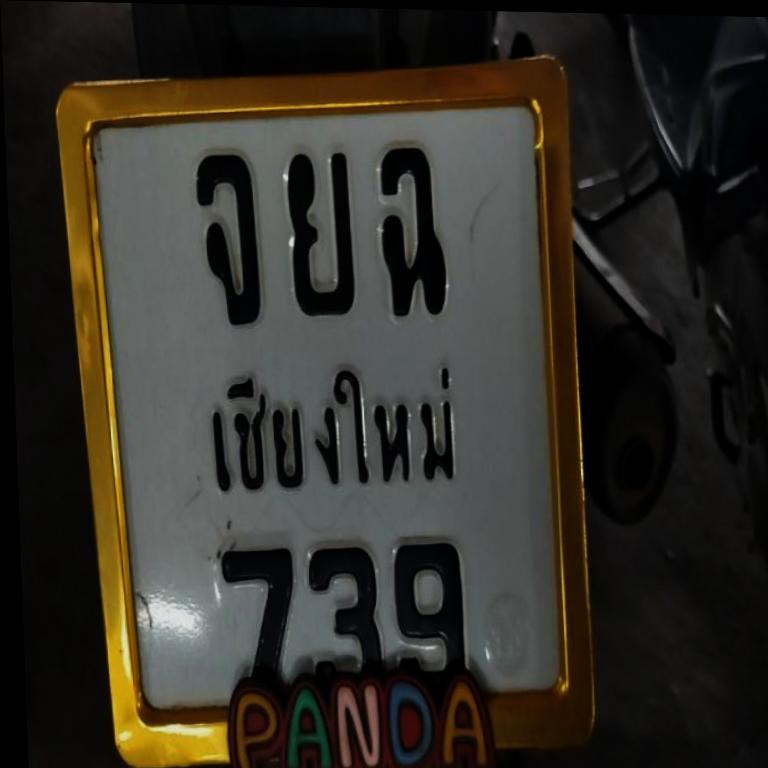license plate: (57, 56, 594, 768)
